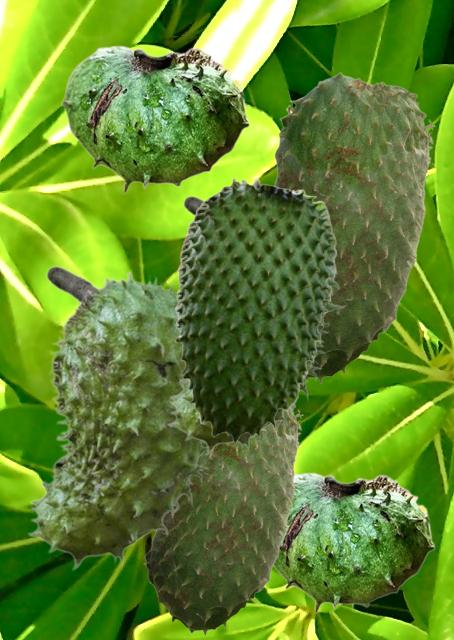guyabano: (26, 265, 214, 570), (274, 71, 434, 382), (166, 195, 345, 455), (174, 177, 336, 443), (143, 405, 302, 634), (61, 45, 249, 193), (273, 472, 434, 613)
